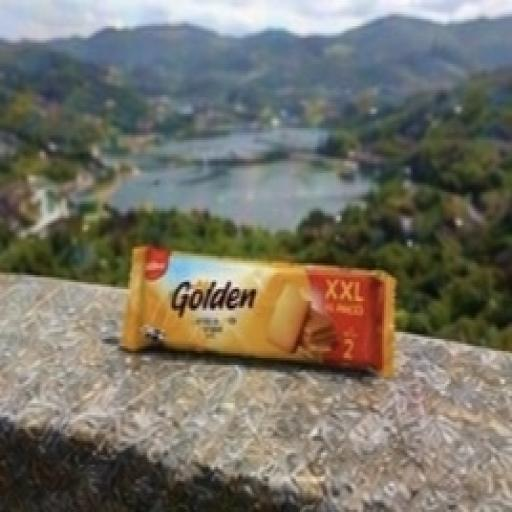golden: (111, 183, 432, 401)
